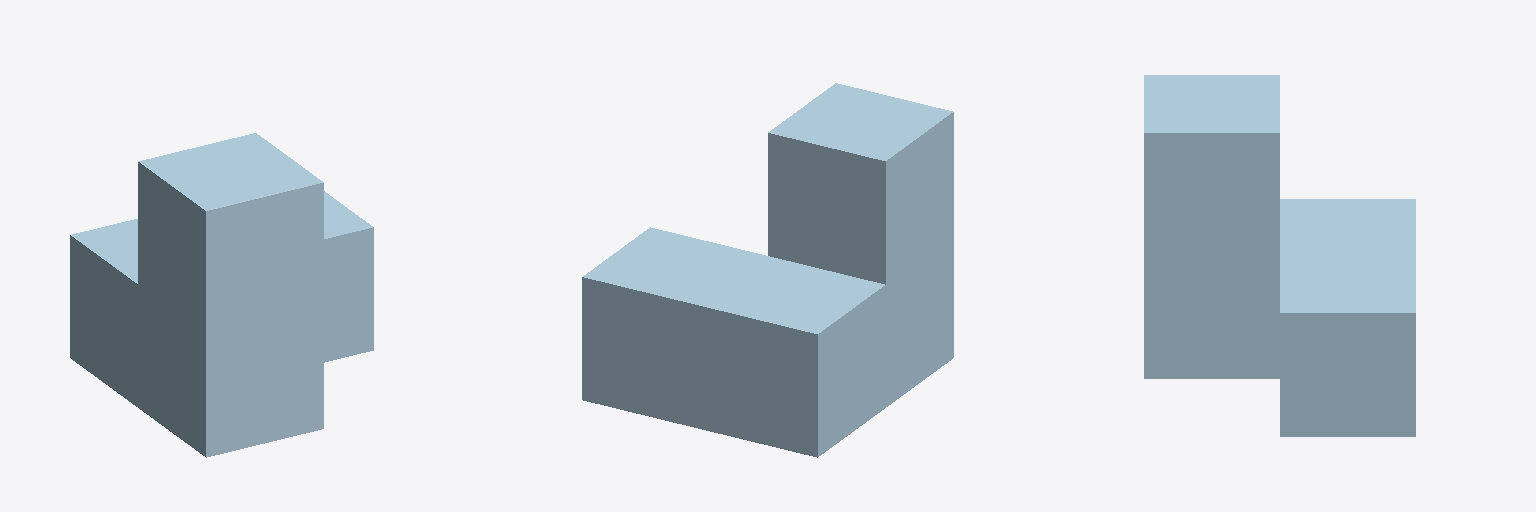
The model's file is E2-Soma-p05.obj.
The picture shows the model from 3 angles: view 1: azimuth 30°, elevation 25°; view 2: azimuth 150°, elevation 25°; view 3: azimuth 270°, elevation 25°; orthographic projection.
Parts seen in each view (by area): view 1: mesh9, mesh5, mesh8, mesh0, mesh4; view 2: mesh2, mesh5, mesh4, mesh7, mesh8; view 3: mesh6, mesh1, mesh4, mesh8.
Boxes of the visible parts, <box> form: mesh9: <box>206,183,323,457</box>; mesh5: <box>70,162,205,456</box>; mesh8: <box>138,133,323,210</box>; mesh0: <box>324,227,373,362</box>; mesh4: <box>71,191,372,283</box>; mesh2: <box>582,277,817,457</box>; mesh5: <box>818,112,953,456</box>; mesh4: <box>583,227,884,333</box>; mesh7: <box>768,133,885,284</box>; mesh8: <box>768,83,952,160</box>; mesh6: <box>1144,133,1279,378</box>; mesh1: <box>1280,313,1415,436</box>; mesh4: <box>1280,199,1415,312</box>; mesh8: <box>1144,75,1279,132</box>.
Bounding box in the file's own units: 0.036 × 0.036 × 0.036.